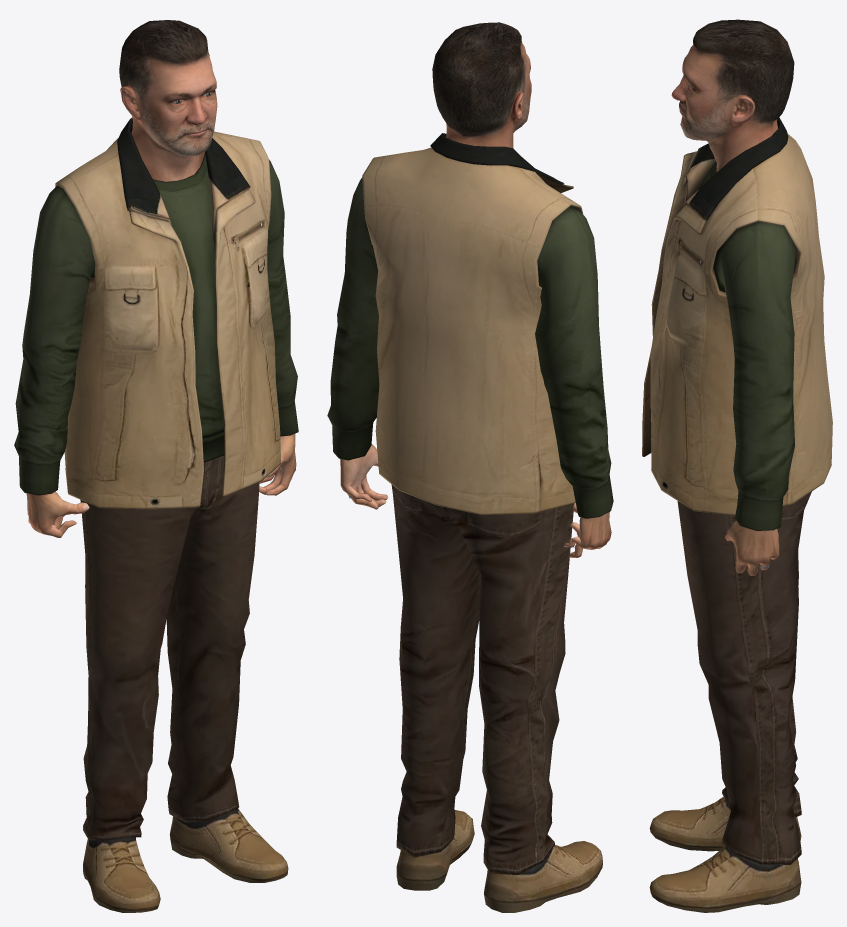
The model's file is hunter.glb.
The picture shows the model from 3 angles, left to right: view 1: azimuth 30°, elevation 25°; view 2: azimuth 150°, elevation 25°; view 3: azimuth 270°, elevation 25°; orthographic projection.
Parts seen in each view (by area): view 1: hunter; view 2: hunter; view 3: hunter.
Boxes of the visible parts, x1=… form: hunter: x1=14, y1=20, x2=298, y2=912; hunter: x1=327, y1=22, x2=613, y2=912; hunter: x1=642, y1=19, x2=832, y2=912.
Bounding box in the file's own units: 0.6166 × 1.81 × 0.3677.
Materials: 3 (3 with a texture image).
